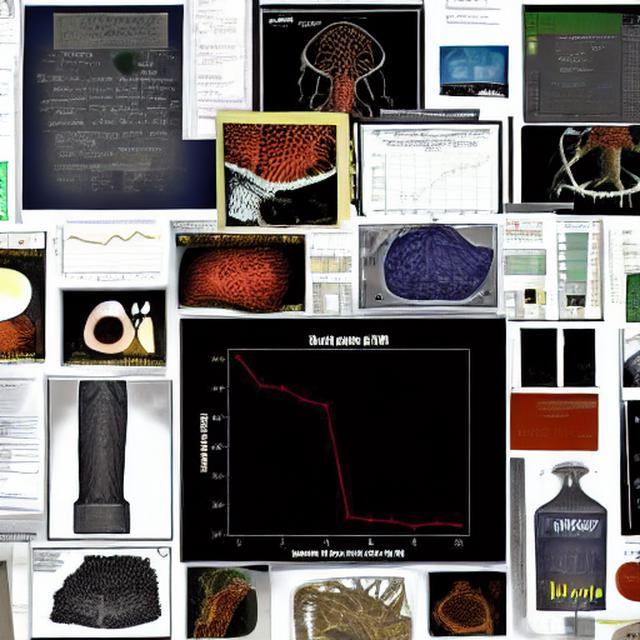Graph: (183, 320, 506, 562), (368, 138, 497, 222), (50, 217, 163, 285), (526, 65, 622, 123), (543, 571, 606, 611), (75, 502, 128, 535), (187, 25, 239, 55)
